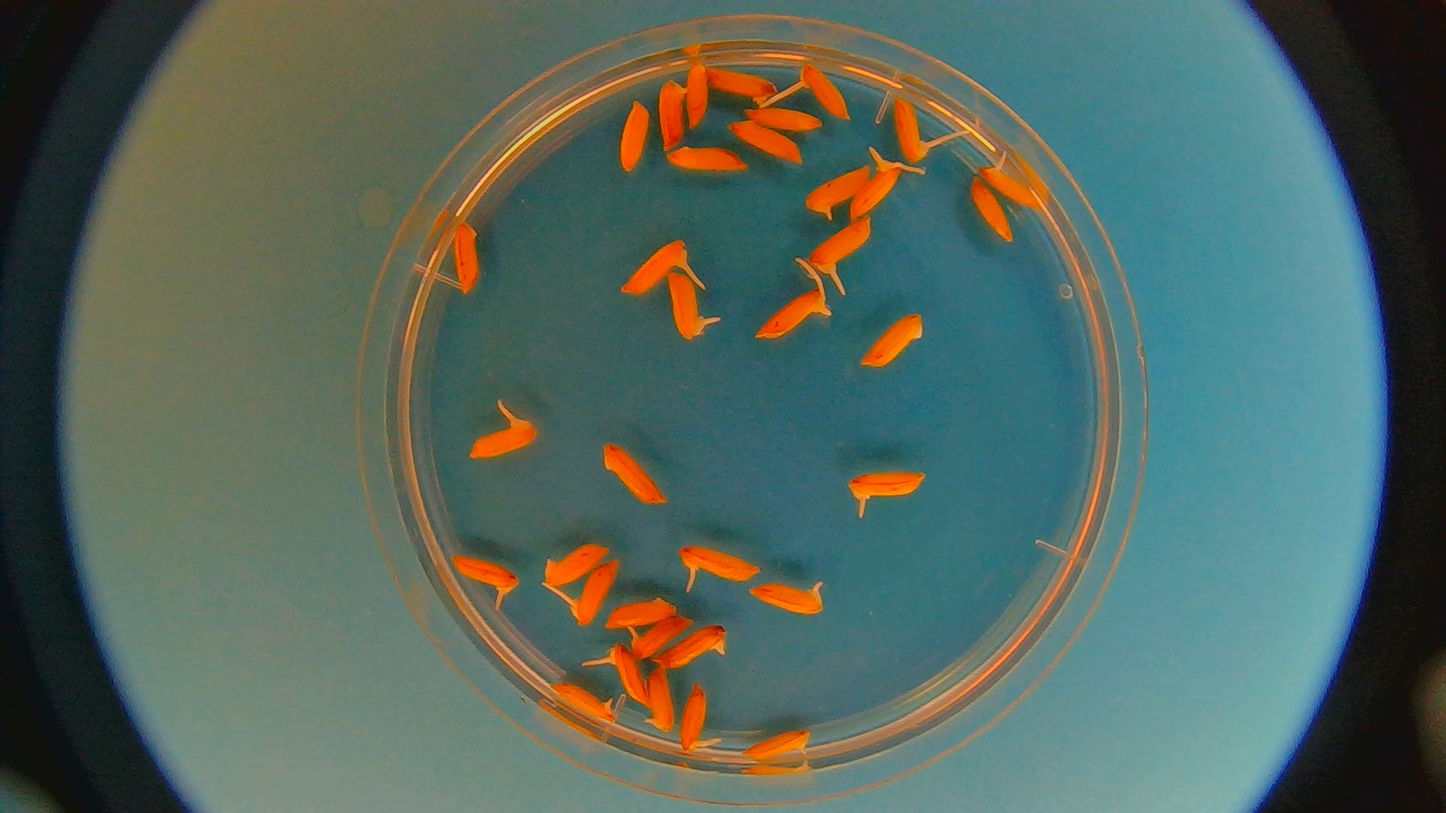no: (604, 444, 667, 507), (859, 312, 923, 369), (727, 120, 804, 163), (658, 626, 730, 671), (703, 65, 776, 104), (543, 543, 612, 584), (607, 595, 678, 632), (972, 181, 1012, 243), (618, 99, 651, 173), (657, 81, 692, 149), (746, 726, 813, 761), (449, 220, 480, 294), (667, 147, 748, 175), (743, 105, 825, 132), (644, 668, 675, 733), (684, 59, 711, 129)
yes: (620, 240, 690, 295), (756, 290, 826, 340), (660, 271, 708, 340), (462, 416, 533, 460), (797, 65, 851, 121), (807, 222, 871, 269), (749, 580, 830, 617), (569, 563, 618, 624), (678, 547, 760, 583), (846, 467, 929, 502), (628, 615, 694, 659), (449, 553, 517, 595), (851, 161, 900, 218), (608, 642, 651, 706), (810, 166, 867, 214), (674, 682, 713, 750), (983, 163, 1039, 209), (551, 684, 617, 721), (893, 97, 929, 160)
